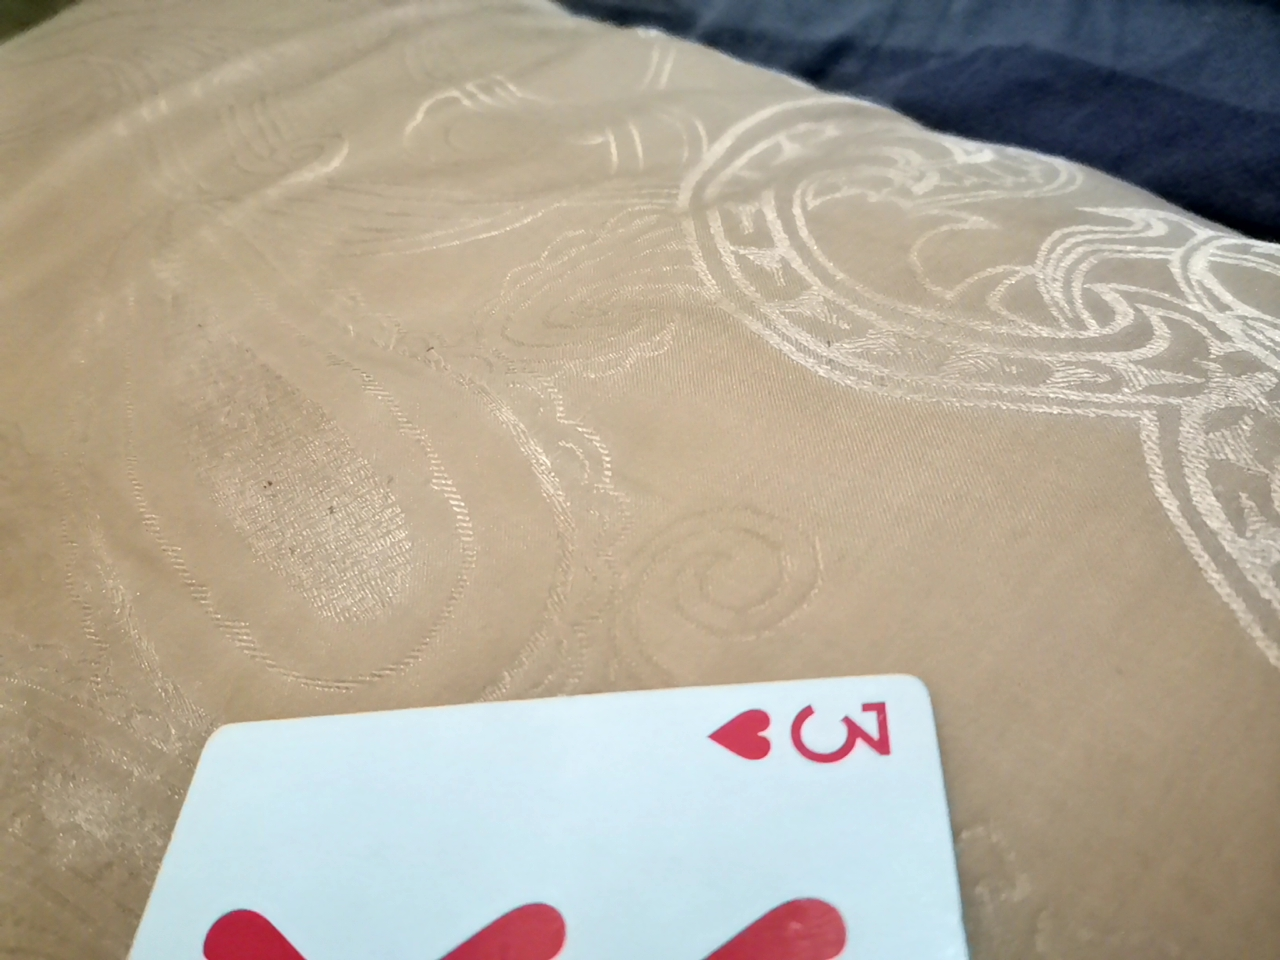hx 3: (87, 674, 988, 960)
